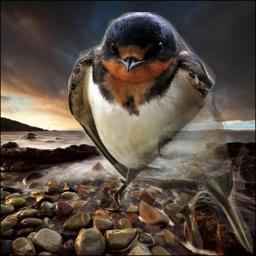Swallow: (68, 12, 253, 254)
